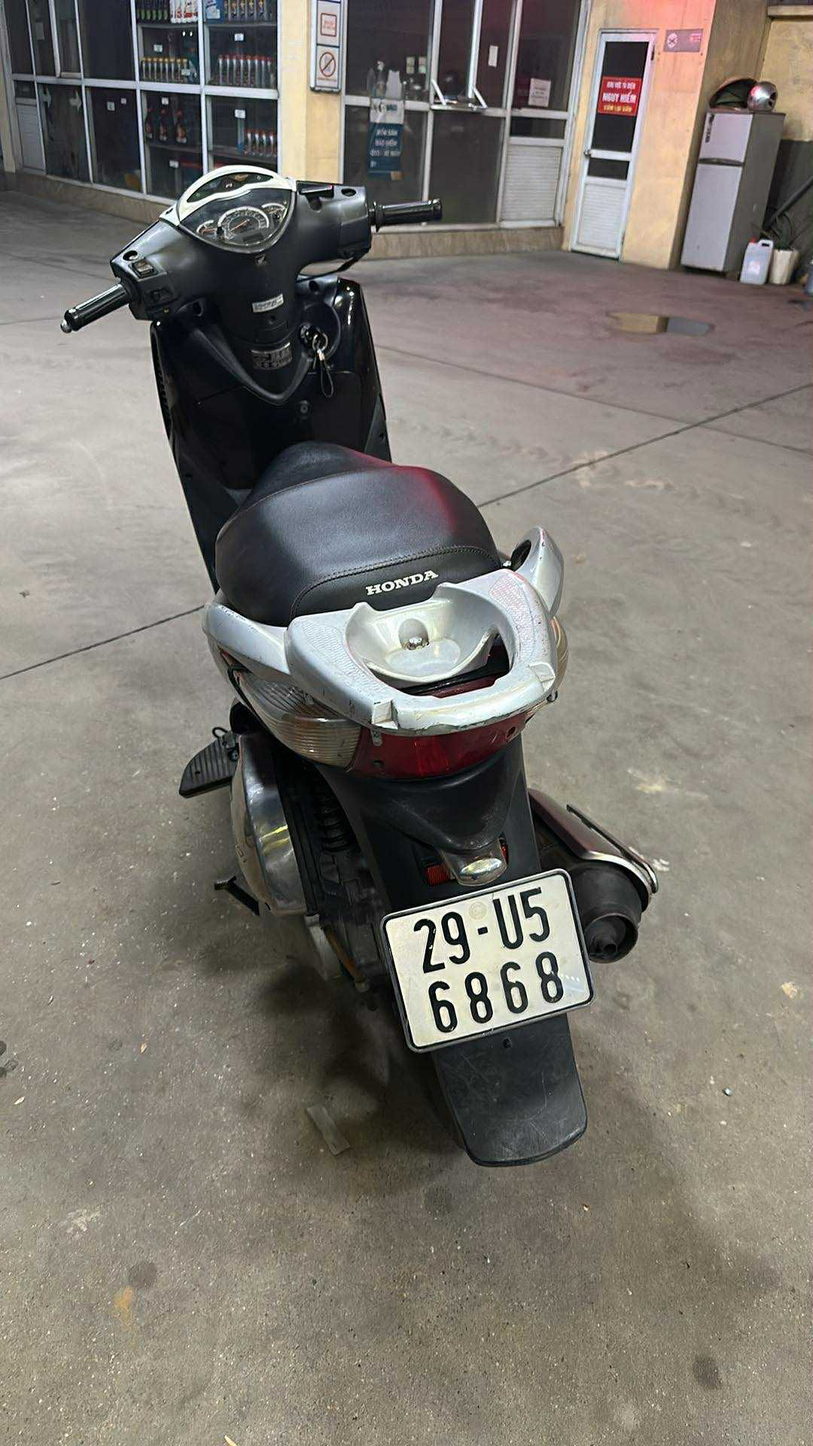bien_so: (372, 860, 606, 1062)
